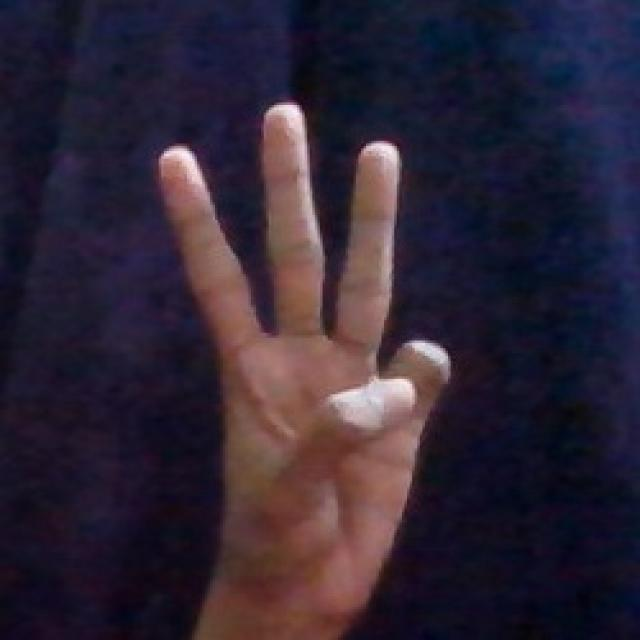Numeric-6: (150, 90, 456, 632)
